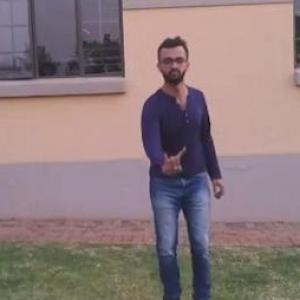takeoff-hand: (157, 140, 190, 180)
